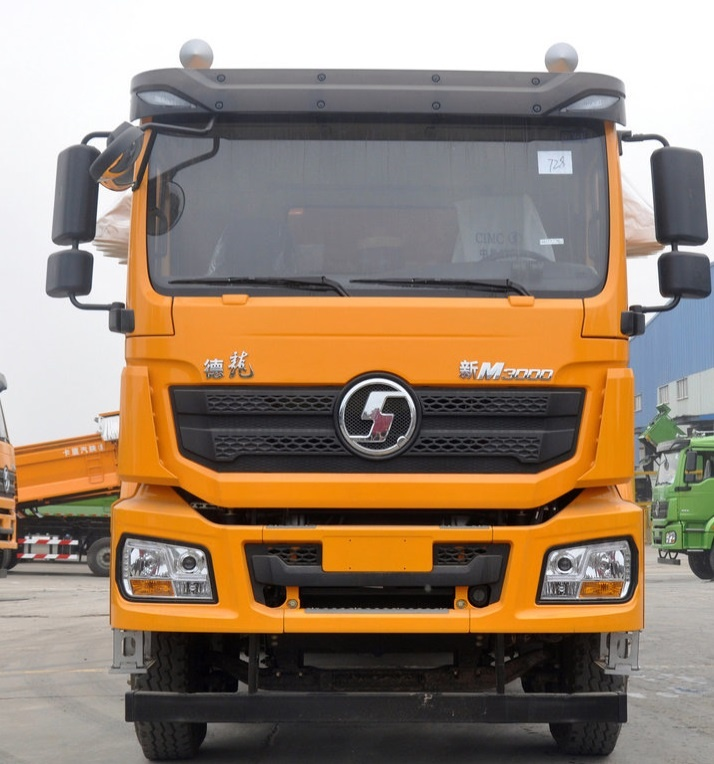heavy truck: (69, 49, 674, 751)
